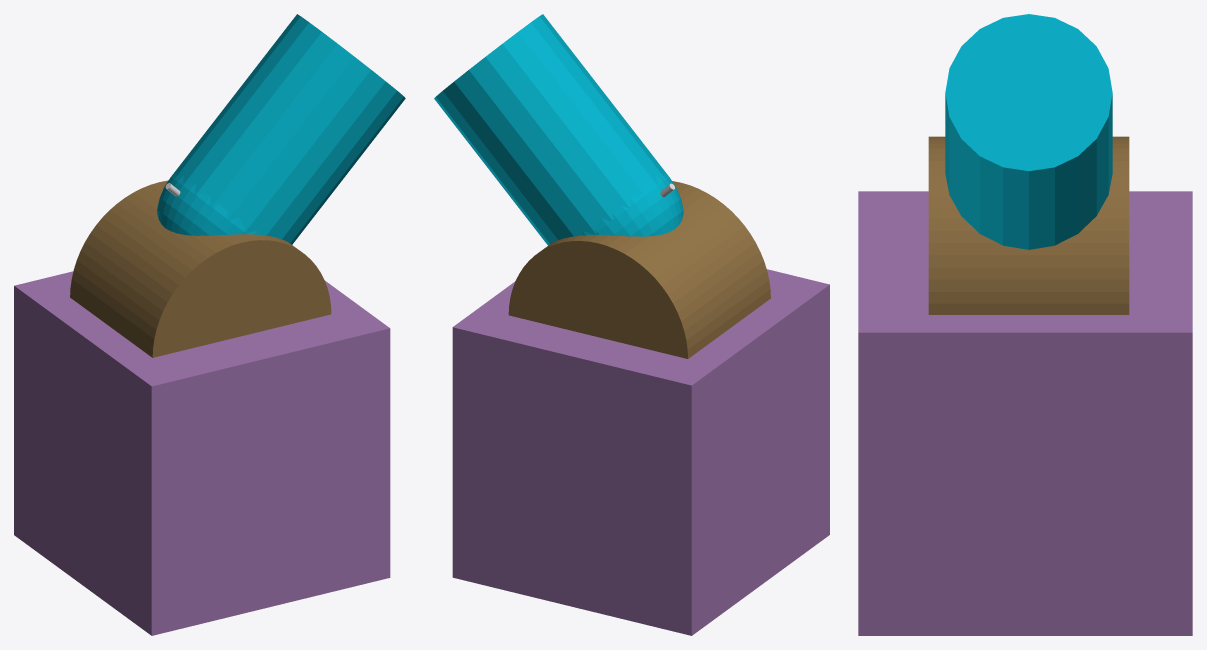
File: ice_tower.glb
The picture shows the model from 3 angles, left to right: view 1: azimuth 30°, elevation 25°; view 2: azimuth 150°, elevation 25°; view 3: azimuth 270°, elevation 25°; orthographic projection. The views are drawn at different scales.
Visible parts, largest first — view 1: Mesh_Mesh_head_geo.001_lambert2SG.001; view 2: Mesh_Mesh_head_geo.001_lambert2SG.001; view 3: Mesh_Mesh_head_geo.001_lambert2SG.001.
Boxes of the visible parts, left/top/right/bottom form: Mesh_Mesh_head_geo.001_lambert2SG.001: left=14, top=14, right=405, bottom=635; Mesh_Mesh_head_geo.001_lambert2SG.001: left=434, top=14, right=829, bottom=635; Mesh_Mesh_head_geo.001_lambert2SG.001: left=858, top=14, right=1192, bottom=635.
Bounding box in the file's own units: 52.36 × 81.21 × 40.
